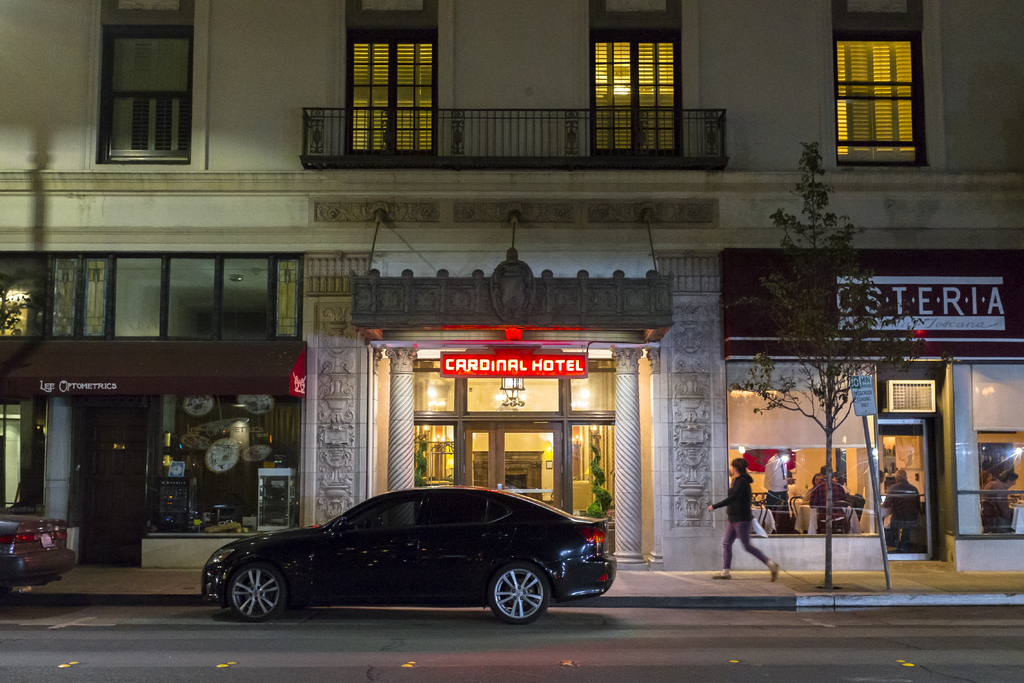Car: (197, 485, 615, 636), (0, 516, 85, 589)
